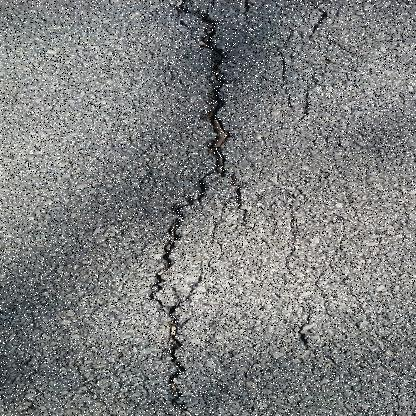Cracks: (143, 0, 253, 415)
